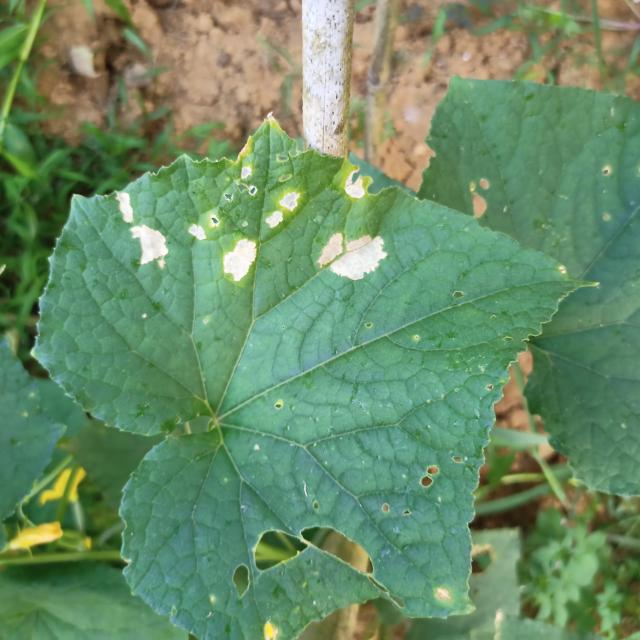disease_cucumber: (180, 163, 306, 289), (110, 190, 172, 274), (313, 226, 389, 285), (337, 166, 376, 205)
